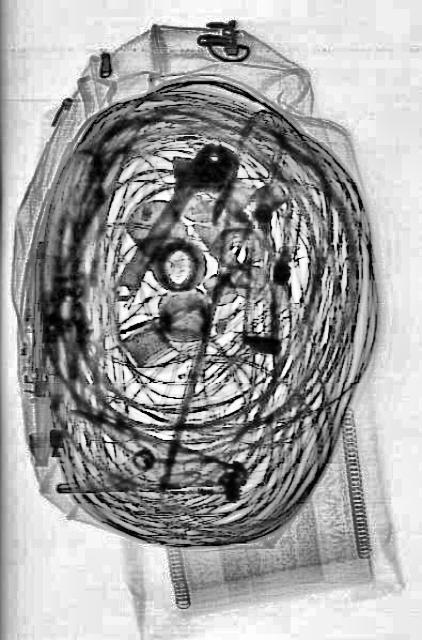Pliers: (54, 390, 243, 524)
Wrench: (93, 109, 243, 323)
